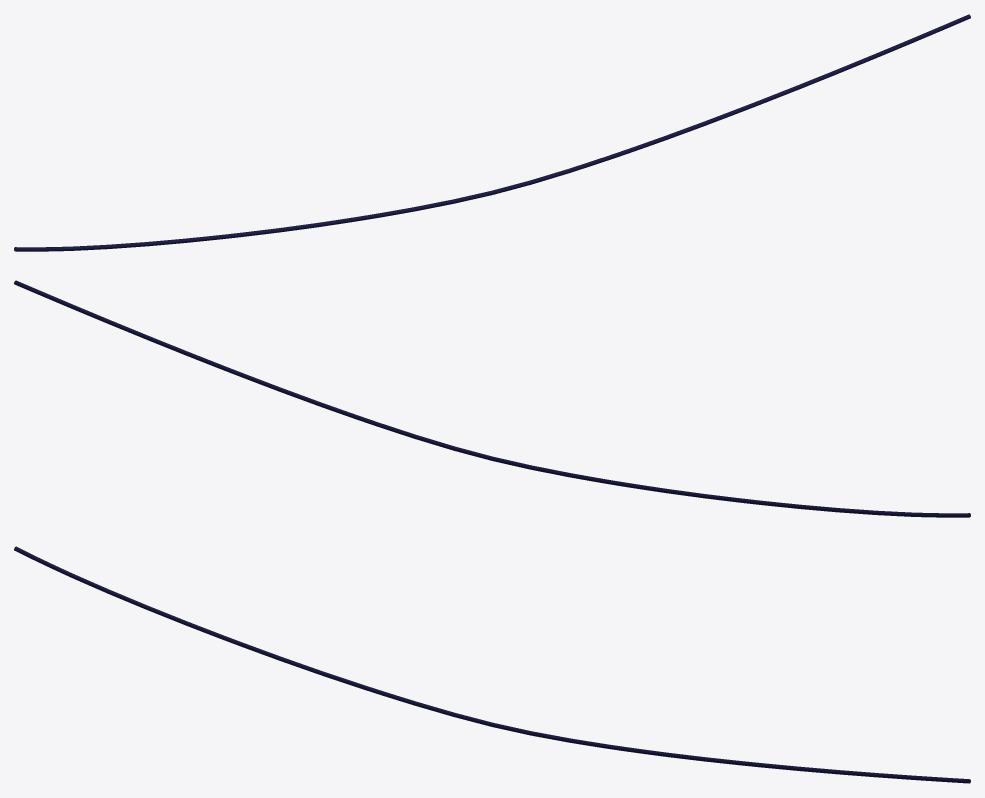
File: cable short.fbx
3 views of the same model, one above another, from view 1: azimuth 30°, elevation 25°; view 2: azimuth 150°, elevation 25°; view 3: azimuth 330°, elevation 25° (orthographic).
Parts seen in each view (by area): view 1: BézierCurve; view 2: BézierCurve; view 3: BézierCurve.
Part boxes in pixels (x1=…): BézierCurve: x1=14, y1=14, x2=970, y2=251; BézierCurve: x1=14, y1=280, x2=970, y2=517; BézierCurve: x1=14, y1=546, x2=970, y2=783.
Size of the model in its own units: 2 by 500 by 31.72.
